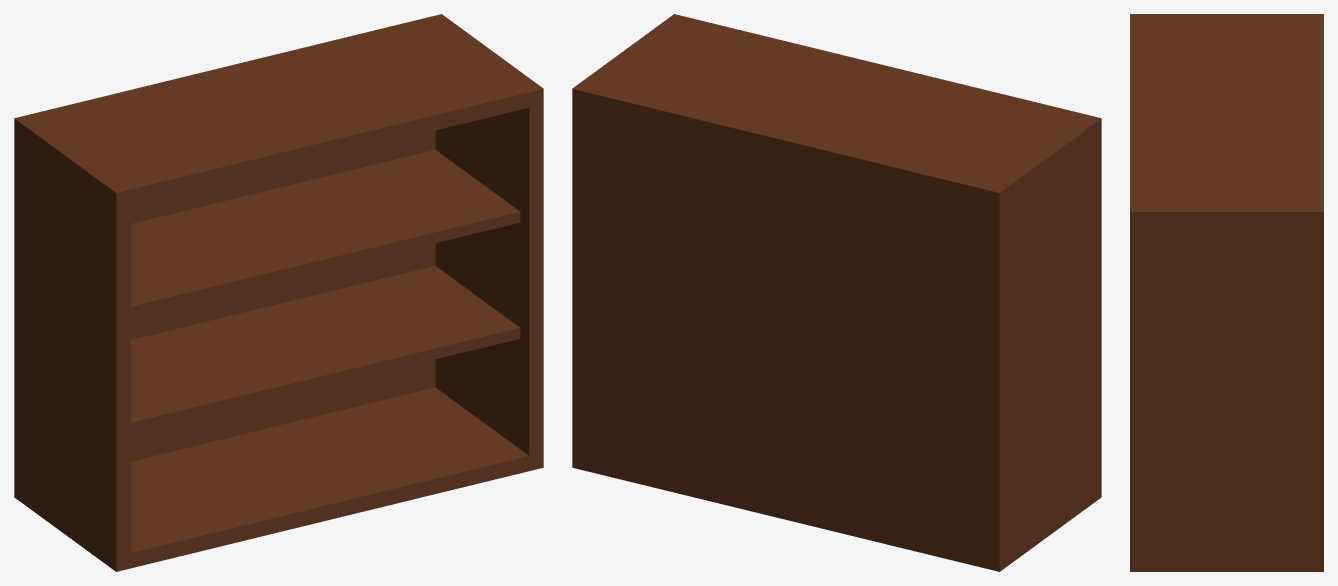
Rendered from KitchenShelves2.glb.
3 views of the same model, side by side, from view 1: azimuth 30°, elevation 25°; view 2: azimuth 150°, elevation 25°; view 3: azimuth 270°, elevation 25° (orthographic). The views are drawn at different scales.
Visible parts, largest first — view 1: KitchenShelves2; view 2: KitchenShelves2; view 3: KitchenShelves2.
Boxes of the visible parts, left/top/right/bottom form: KitchenShelves2: left=14, top=14, right=543, bottom=571; KitchenShelves2: left=572, top=14, right=1101, bottom=571; KitchenShelves2: left=1130, top=14, right=1323, bottom=571.
Bounding box in the file's own units: 1.02 × 0.8651 × 0.4225.
